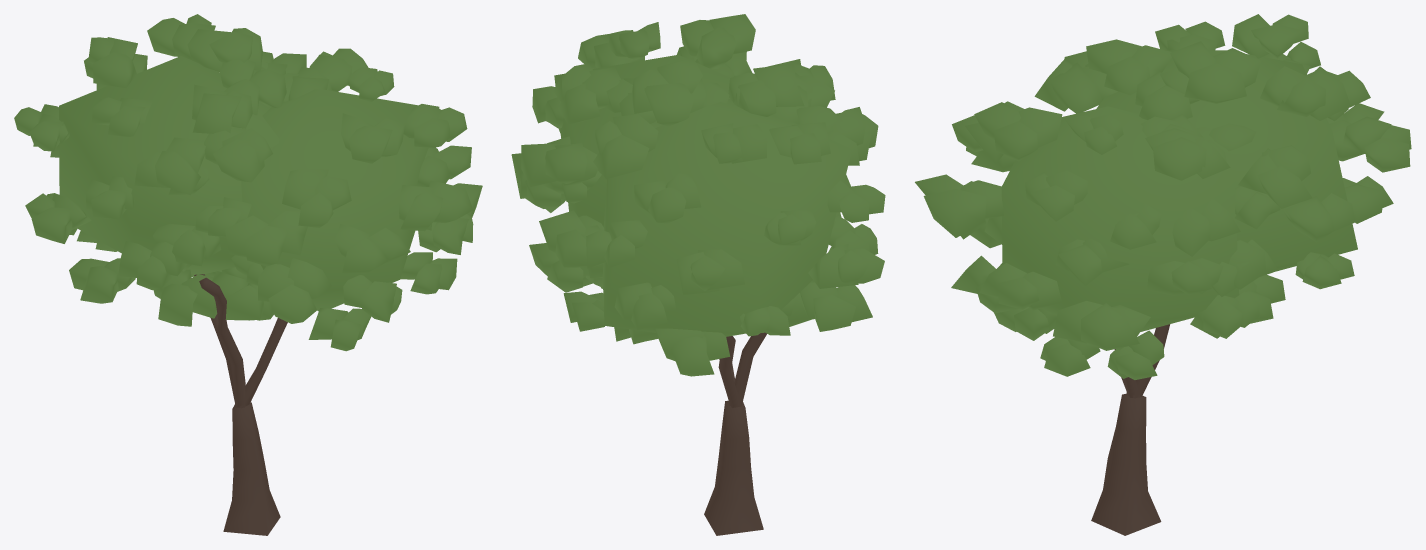
The model's file is Blender_AfricanSumac_2_Far.glb.
The picture shows the model from 3 angles, left to right: view 1: azimuth 30°, elevation 25°; view 2: azimuth 150°, elevation 25°; view 3: azimuth 270°, elevation 25°; orthographic projection. The views are drawn at different scales.
Visible parts, largest first — view 1: Blender_AfricanSumac_2_Far; view 2: Blender_AfricanSumac_2_Far; view 3: Blender_AfricanSumac_2_Far.
Part boxes in pixels (bbox=[...]): Blender_AfricanSumac_2_Far: bbox=[14, 14, 482, 535]; Blender_AfricanSumac_2_Far: bbox=[511, 14, 885, 535]; Blender_AfricanSumac_2_Far: bbox=[915, 14, 1411, 535].
Size of the model in its own units: 5.64 by 6.16 by 5.73.
